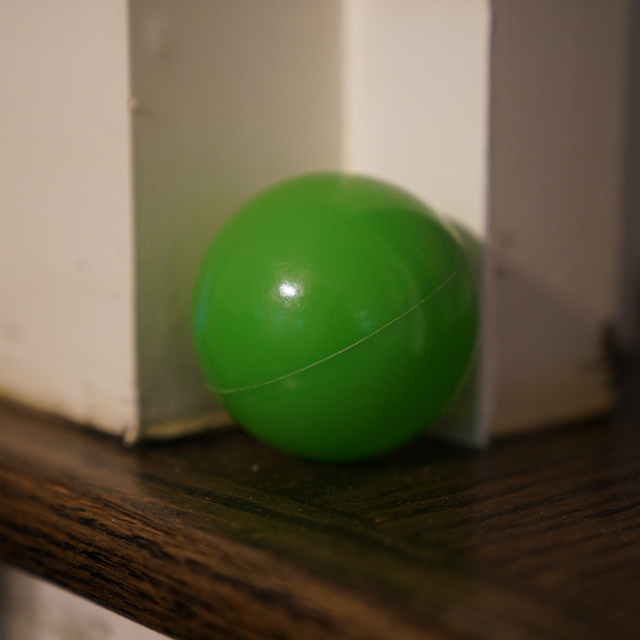Ball: (190, 171, 476, 463)
